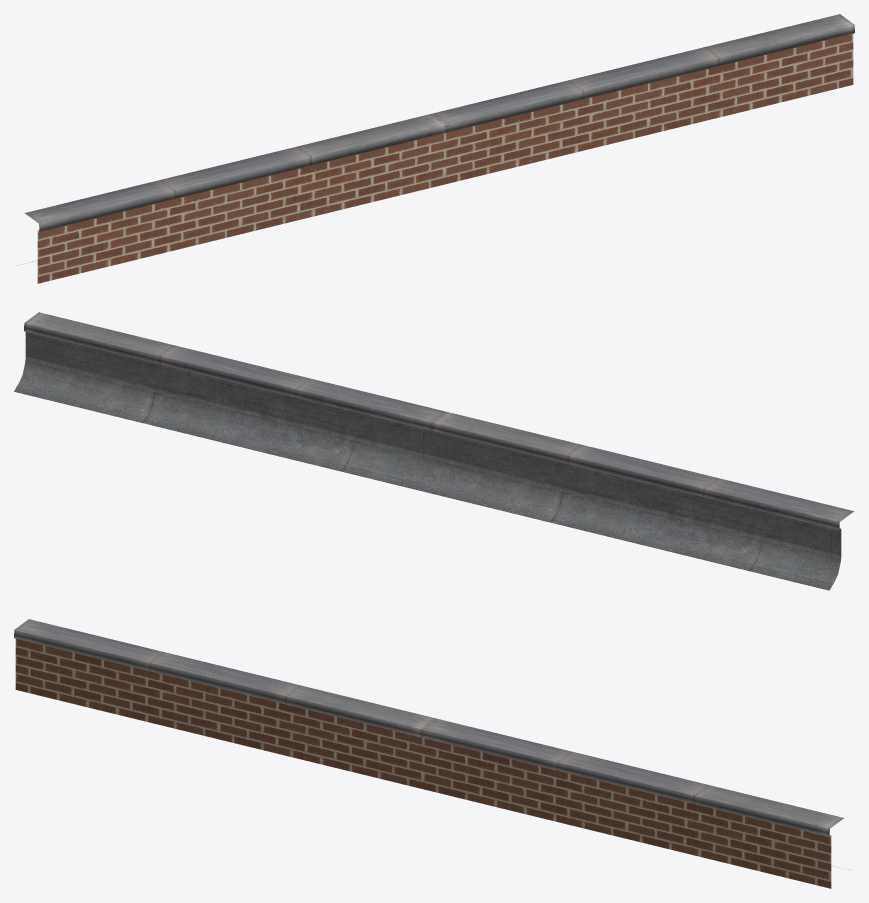
File: SM_Roof_Edge_Flashing_Half_01.glb
3 views of the same model, one above another, from view 1: azimuth 30°, elevation 25°; view 2: azimuth 150°, elevation 25°; view 3: azimuth 330°, elevation 25° (orthographic).
Parts seen in each view (by area): view 1: SM_Roof_Edge_Flashing_Half_01; view 2: SM_Roof_Edge_Flashing_Half_01; view 3: SM_Roof_Edge_Flashing_Half_01.
Boxes of the visible parts, <box> form: SM_Roof_Edge_Flashing_Half_01: <box>20,14,854,283</box>; SM_Roof_Edge_Flashing_Half_01: <box>14,312,853,590</box>; SM_Roof_Edge_Flashing_Half_01: <box>14,619,848,888</box>.
Size of the model in its own units: 8 by 0.5741 by 0.4308.
Materials: 3 (3 with a texture image).
